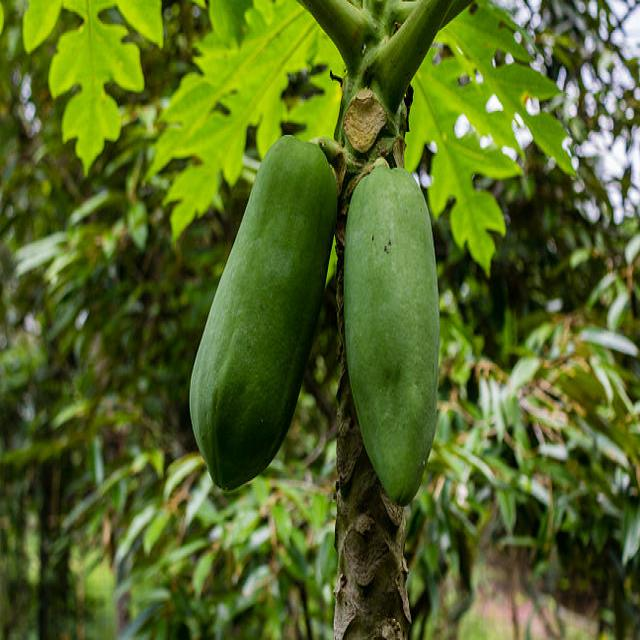Pepaya unrippen: (186, 138, 334, 499), (346, 171, 441, 496)
